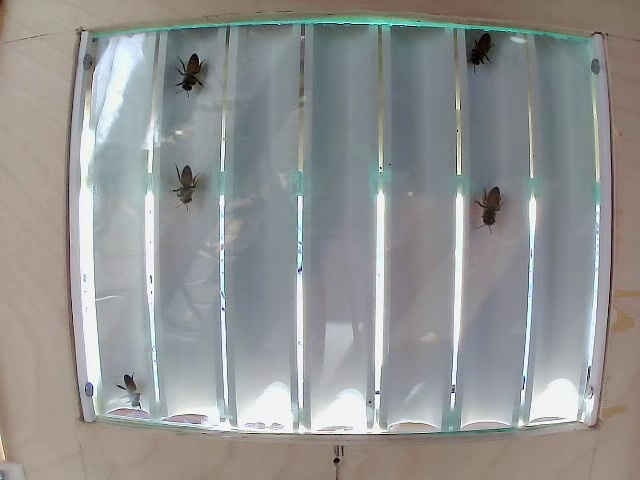bee: (183, 55, 228, 114), (480, 184, 510, 238), (177, 165, 207, 215)
